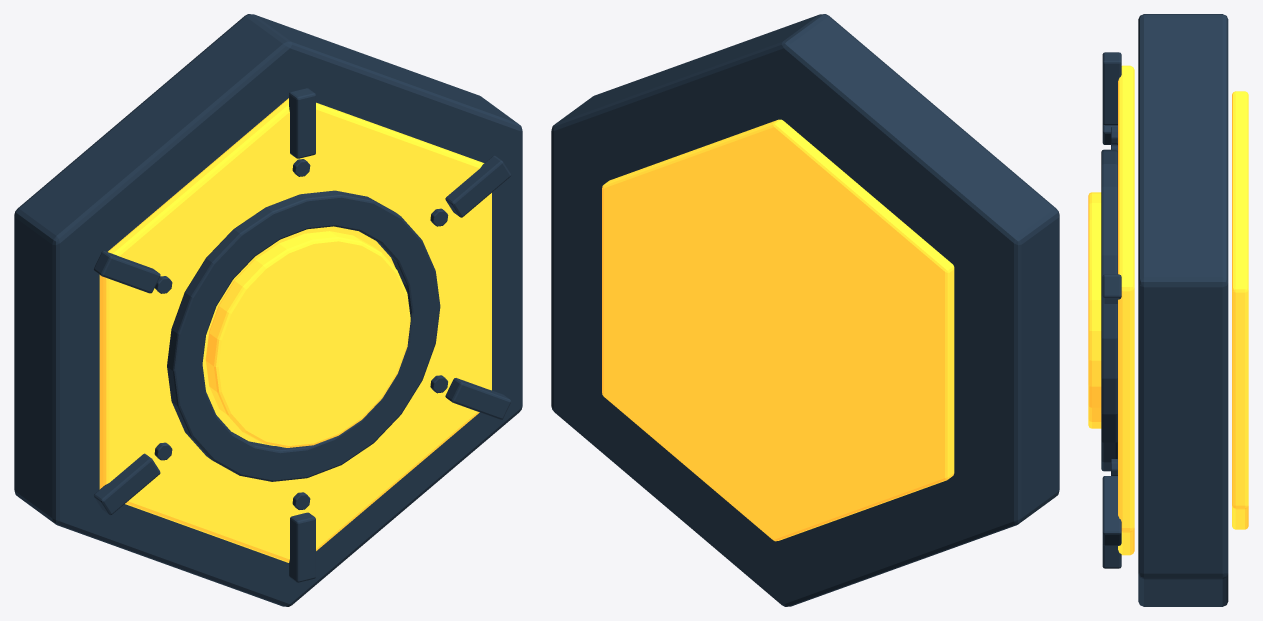
File: Target_HexCore.fbx
3 views of the same model, side by side, from view 1: azimuth 30°, elevation 25°; view 2: azimuth 150°, elevation 25°; view 3: azimuth 270°, elevation 25° (orthographic). The views are drawn at different scales.
Parts seen in each view (by area): view 1: Target_HexCore; view 2: Target_HexCore; view 3: Target_HexCore.
Boxes of the visible parts, x1,y1,x2,y2 form: Target_HexCore: [14, 14, 522, 606]; Target_HexCore: [551, 14, 1059, 606]; Target_HexCore: [1088, 14, 1248, 606].
Size of the model in its own units: 0.239 by 0.2747 by 0.0675.
